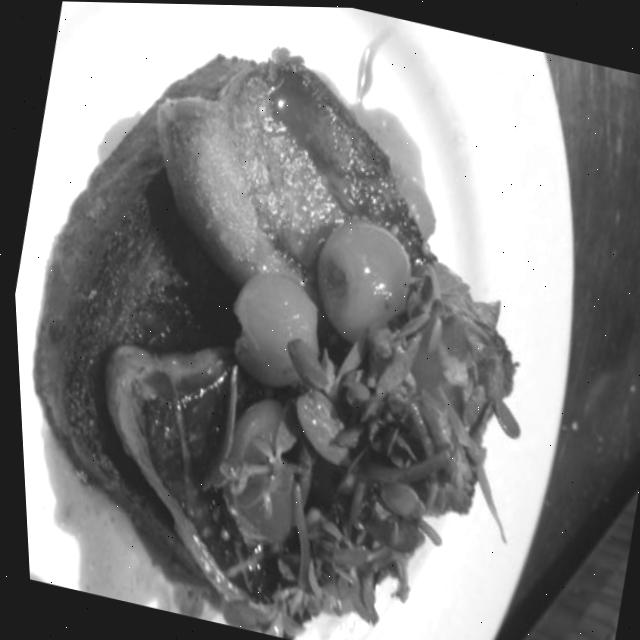牛肉菜式: (14, 39, 549, 635)
